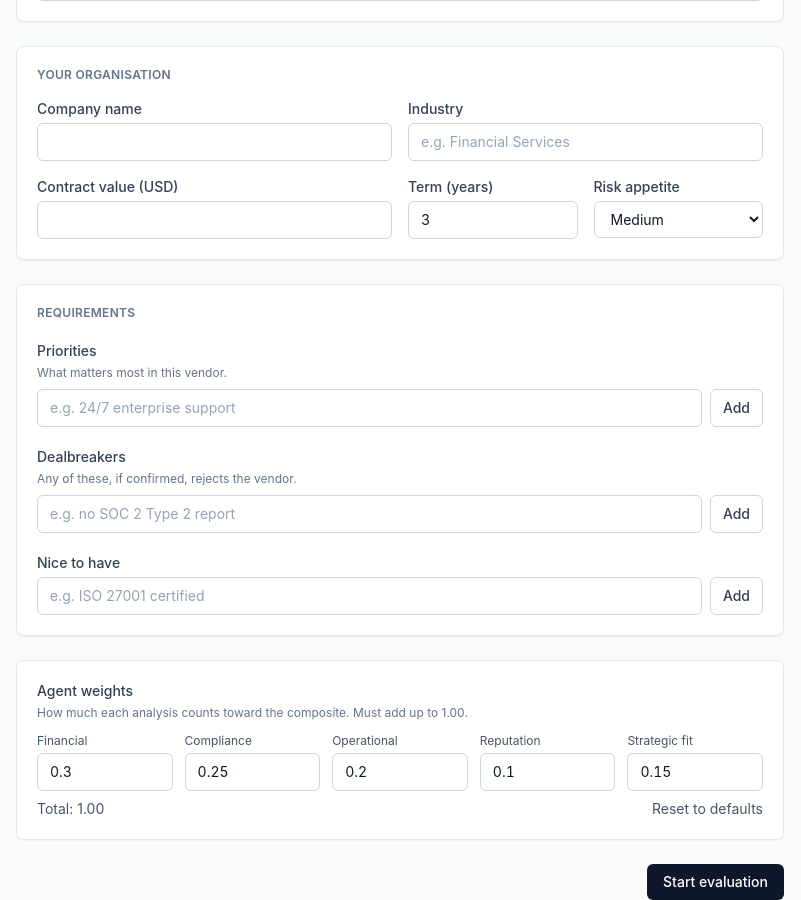
Test: requires vendor, company, industry and contract value
(page scrolled)
Click the button "Start evaluation". click: [716, 882]
box: x1=647 y1=864 x2=784 y2=899
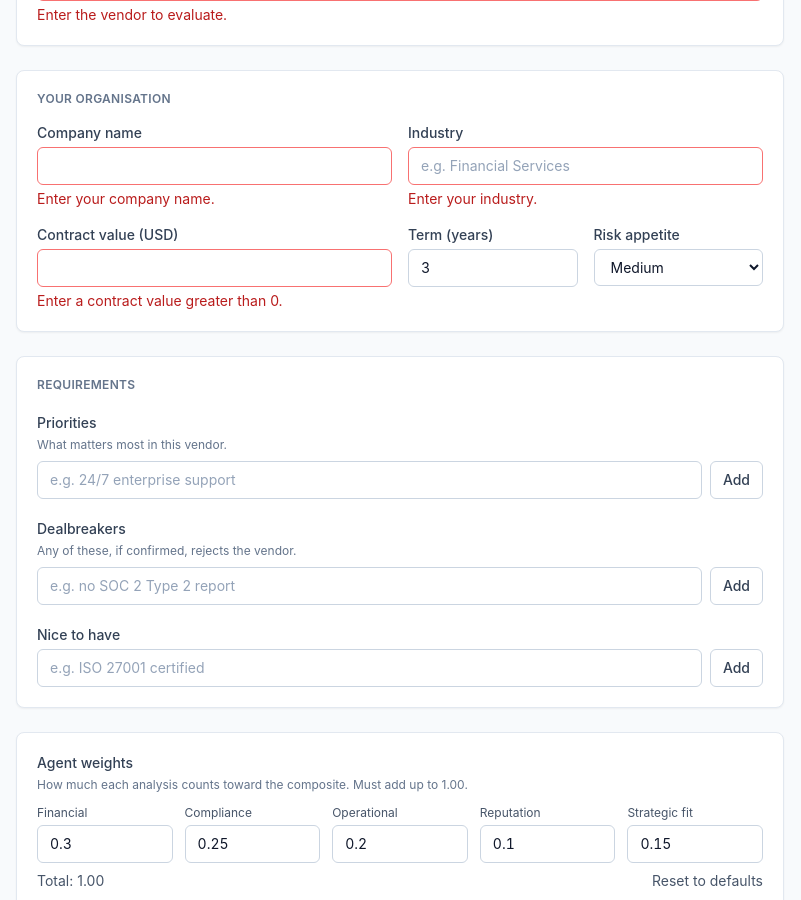
Expected: the text "Enter the vendor to evaluate." is shown, x1=37 y1=6 x2=227 y2=23
Expected: the text "Enter your company name." is shown, x1=37 y1=190 x2=215 y2=207
Expected: the text "Enter your industry." is shown, x1=408 y1=190 x2=537 y2=207
